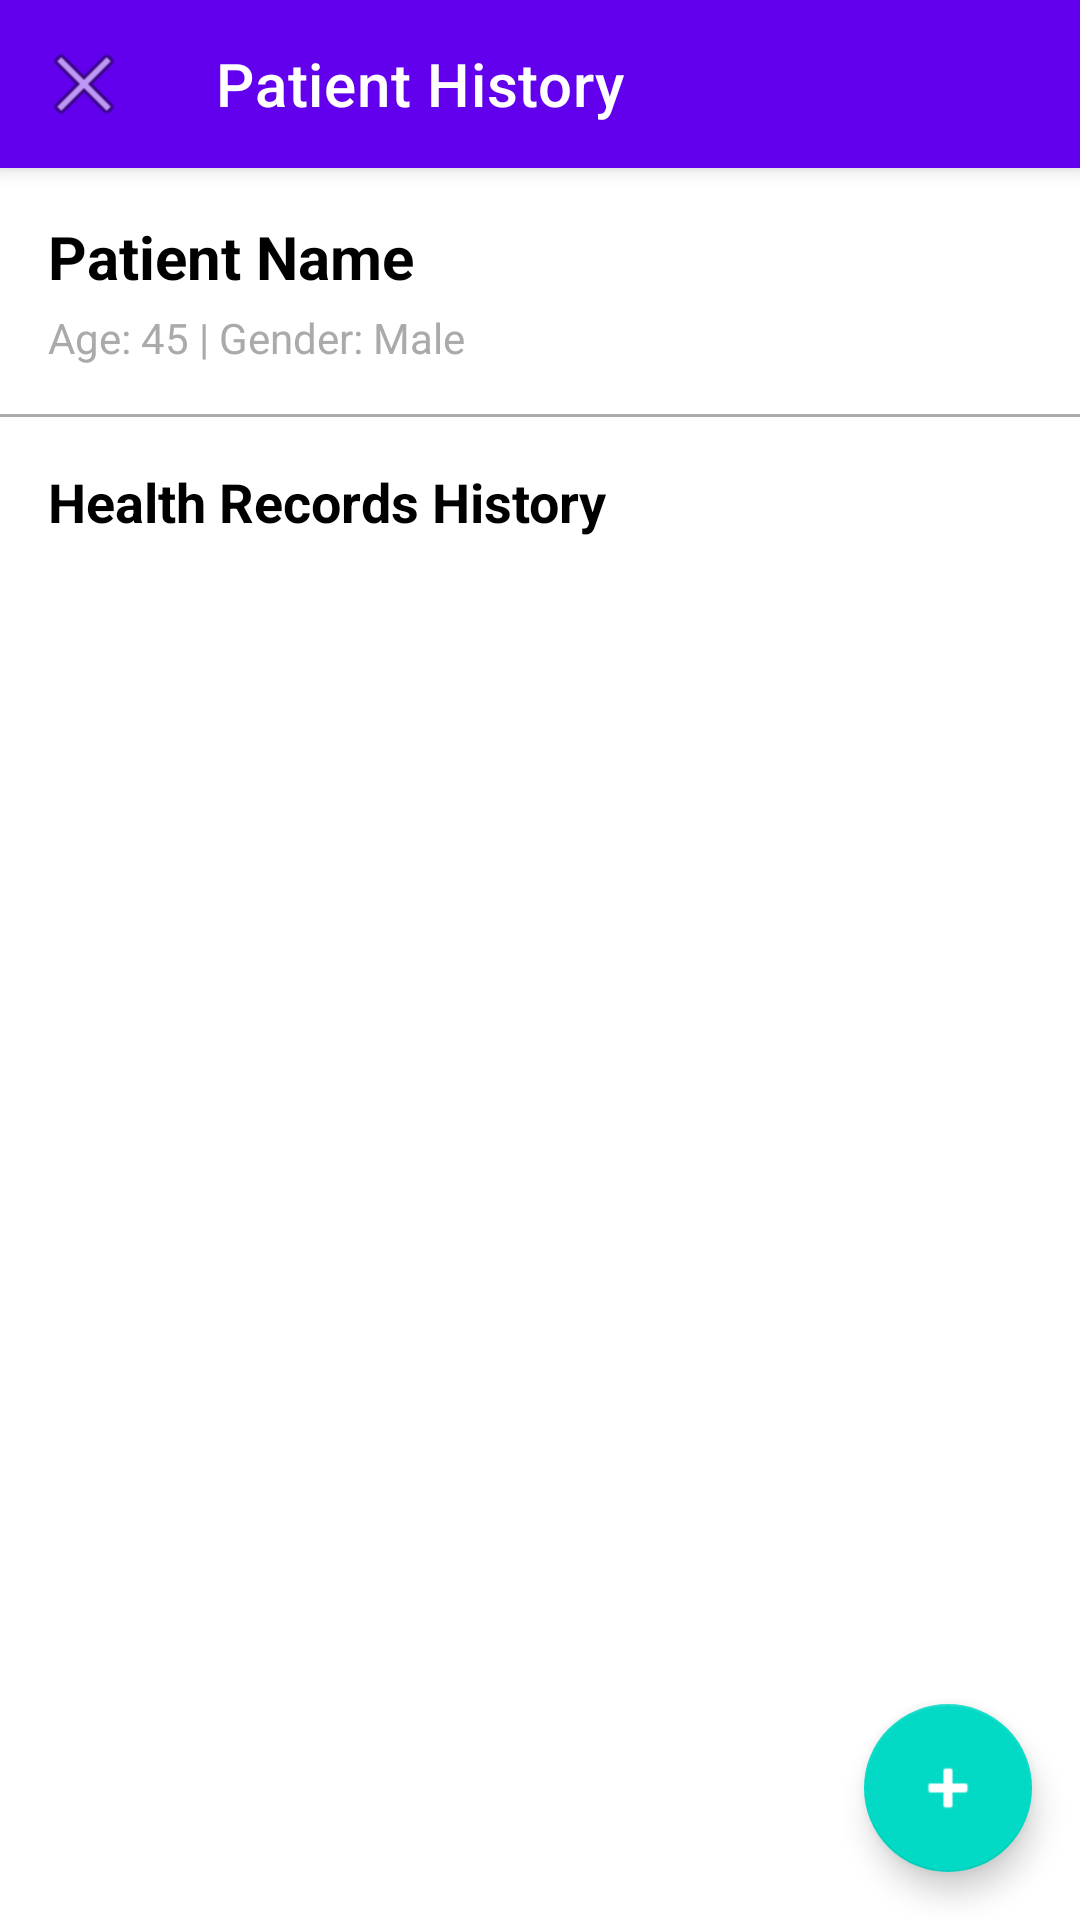

Named icons in this screenshot (1080 × 1920) and their centers, point (x, y):
New Assessment: point (948, 1788)
